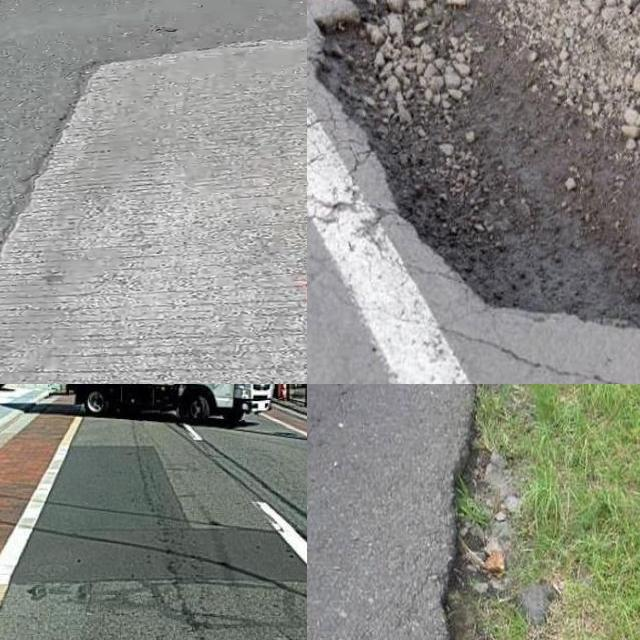Pinggir: (307, 0, 640, 341), (394, 384, 534, 640)
Sambungan: (0, 34, 307, 384), (8, 444, 307, 584)
